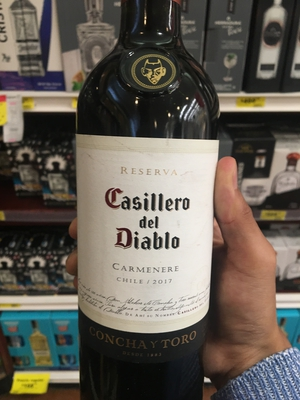casillero del diablo carmenere: (69, 16, 241, 377)
